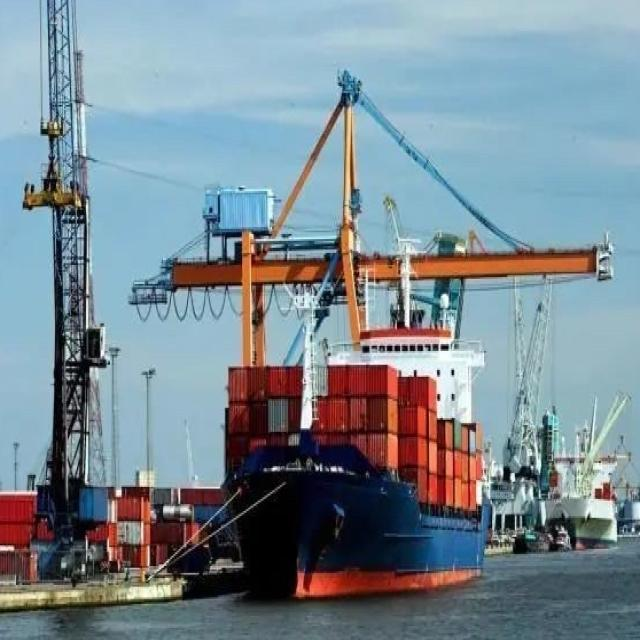cargoship: (224, 286, 489, 602)
